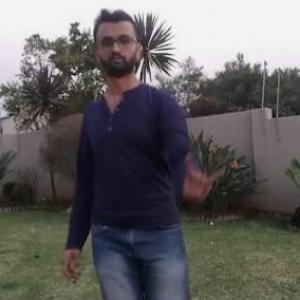takeoff-hand: (176, 147, 223, 204)
